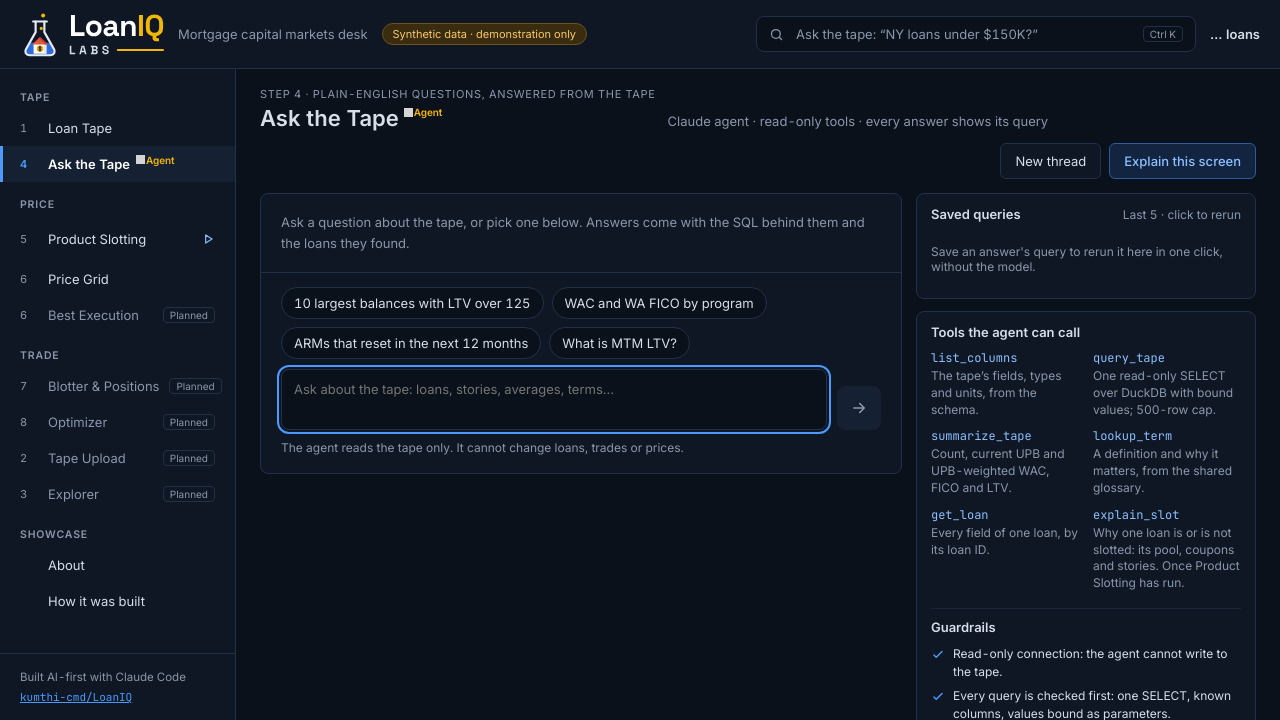
Scenario: Ask the Tape › says why an answer cannot open in the Loan Tape
Type "Loans over 125 LTV?" into the text box named "Ask the tape" at coordinates (554, 399), box [281,369,827,430]
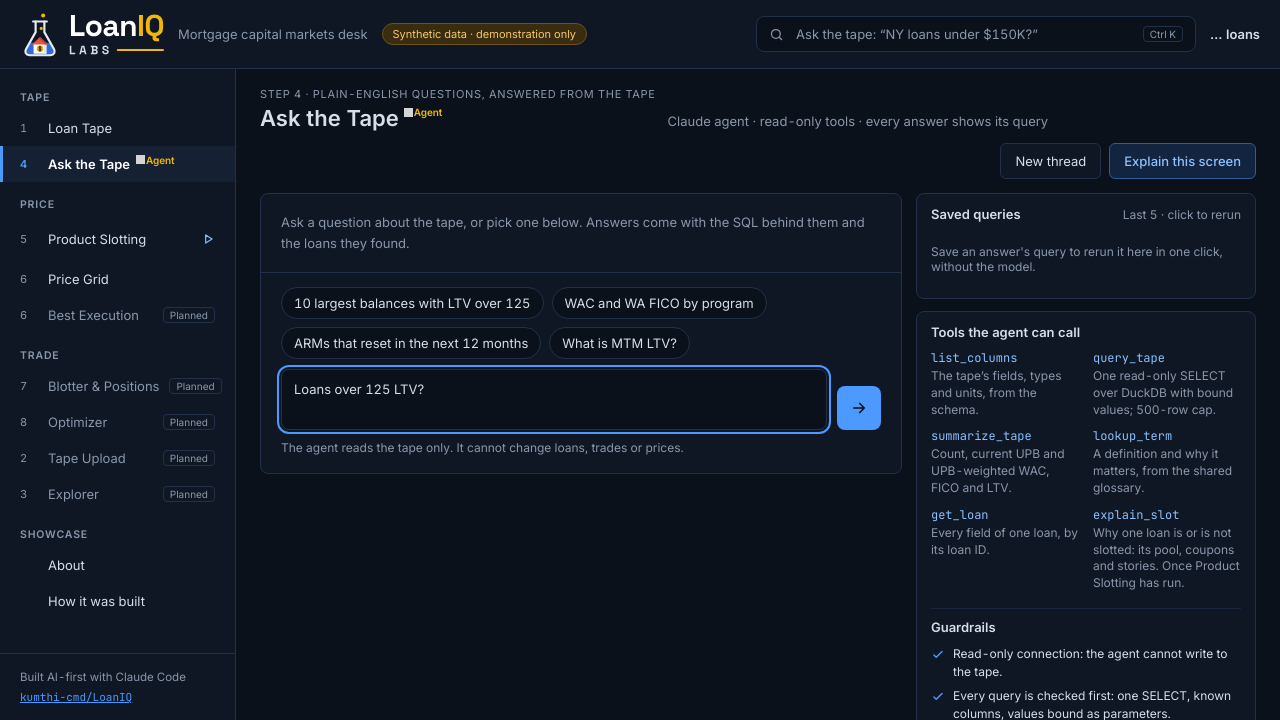
Click the button named "Send question" at coordinates (859, 408), box [837,386,881,430]
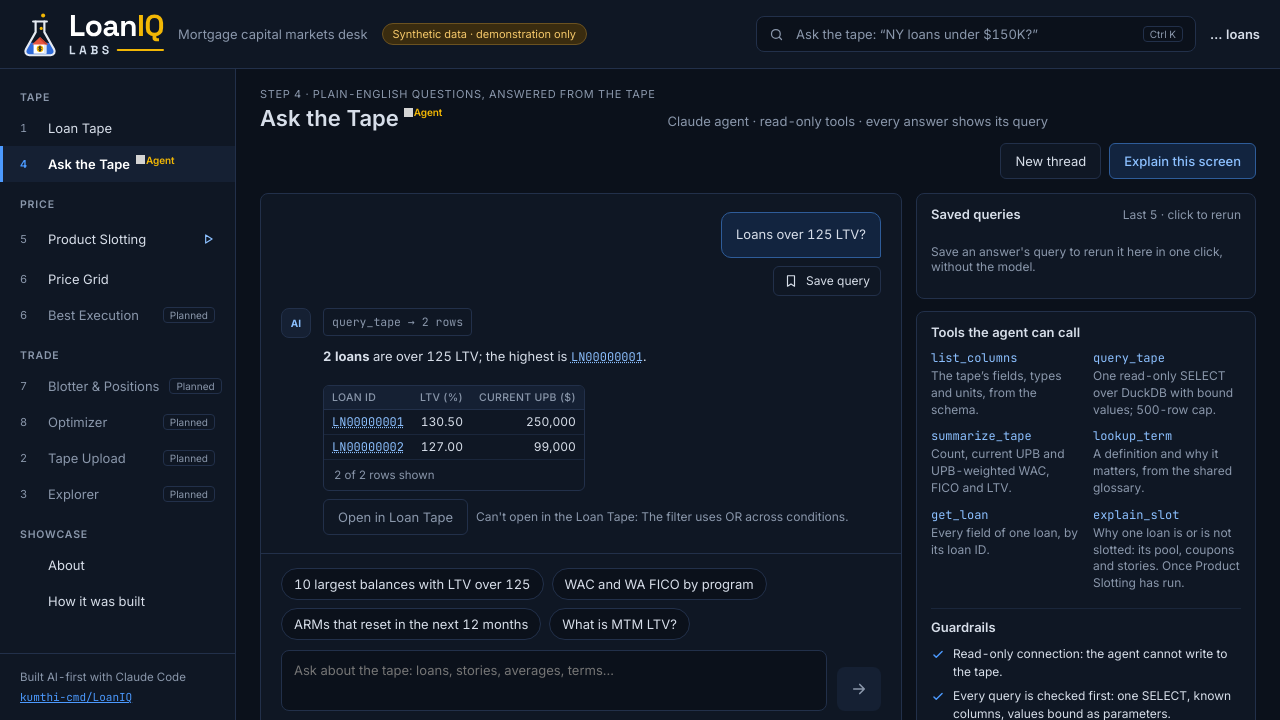
Check: the button "Open in Loan Tape" is disabled, box [323,499,468,535]
Check: the text "Can't open in the Loan Tape: The filter uses OR" is shown, box [476,509,848,524]
